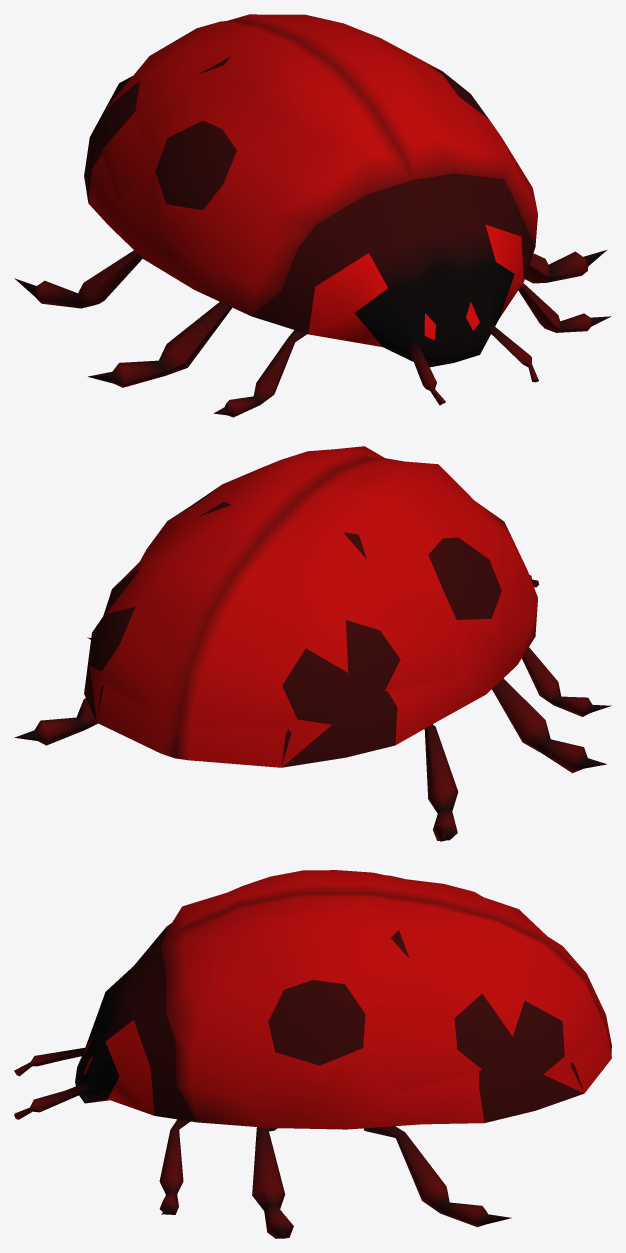
The model's file is Insects_Ladybug.fbx.
The picture shows the model from 3 angles, top to bottom: view 1: azimuth 30°, elevation 25°; view 2: azimuth 150°, elevation 25°; view 3: azimuth 270°, elevation 25°; orthographic projection. The views are drawn at different scales.
Visible parts, largest first — view 1: alt1, alt2; view 2: alt1, alt2; view 3: alt1, alt2.
Boxes of the visible parts, left/top/right/bottom form: alt1: left=14, top=14, right=611, bottom=417; alt2: left=91, top=14, right=440, bottom=200; alt1: left=14, top=446, right=611, bottom=841; alt2: left=89, top=470, right=456, bottom=766; alt1: left=14, top=870, right=611, bottom=1238; alt2: left=337, top=870, right=605, bottom=1093.
Size of the model in its own units: 83.29 by 39.07 by 87.49.
